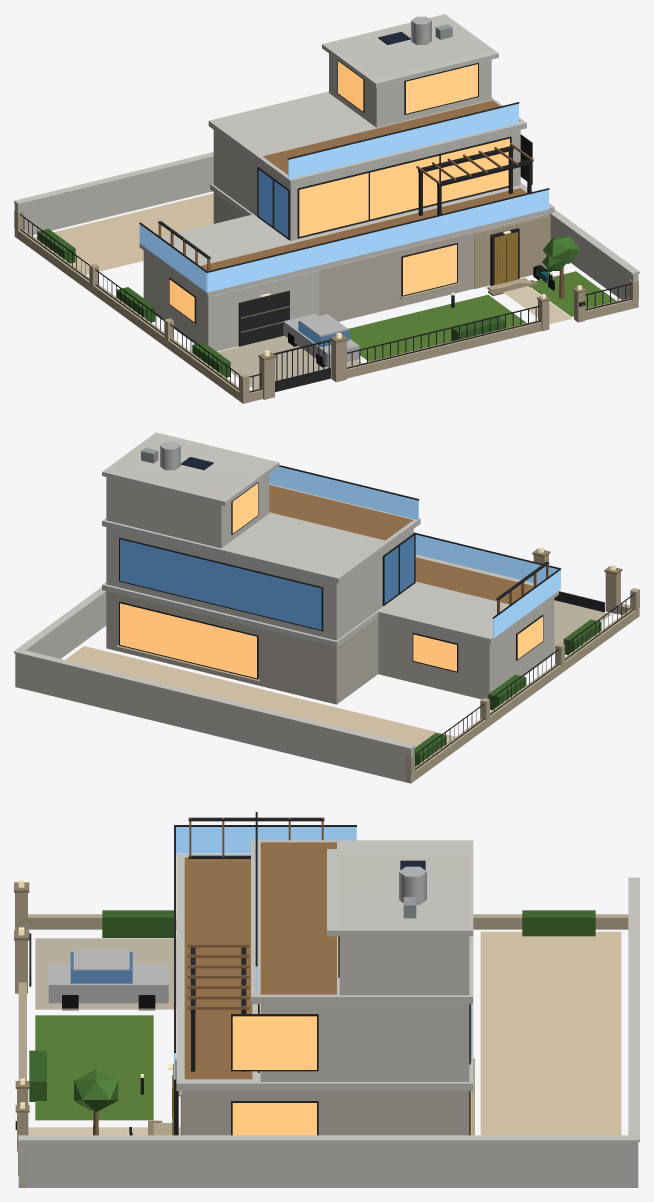
File: house-m3.glb
The picture shows the model from 3 angles, top to bottom: view 1: azimuth 30°, elevation 25°; view 2: azimuth 150°, elevation 25°; view 3: azimuth 270°, elevation 25°; orthographic projection. The views are drawn at different scales.
Size of the model in its own units: 22.08 by 10.52 by 22.22.
